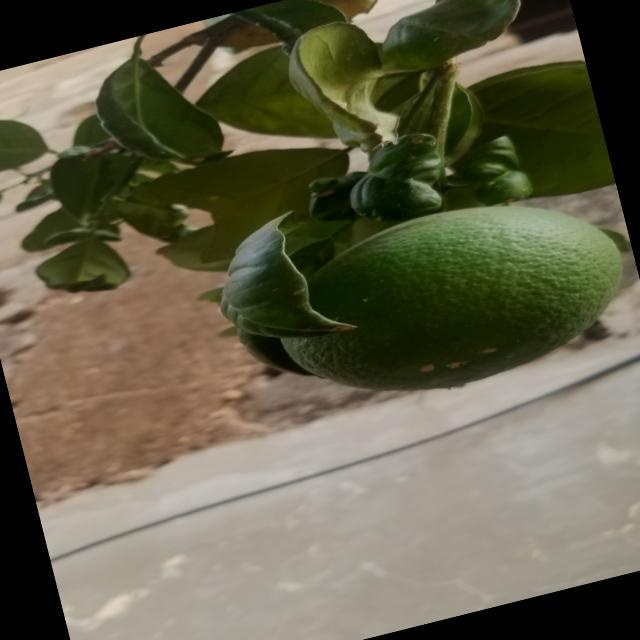agrume: (249, 165, 640, 438)
